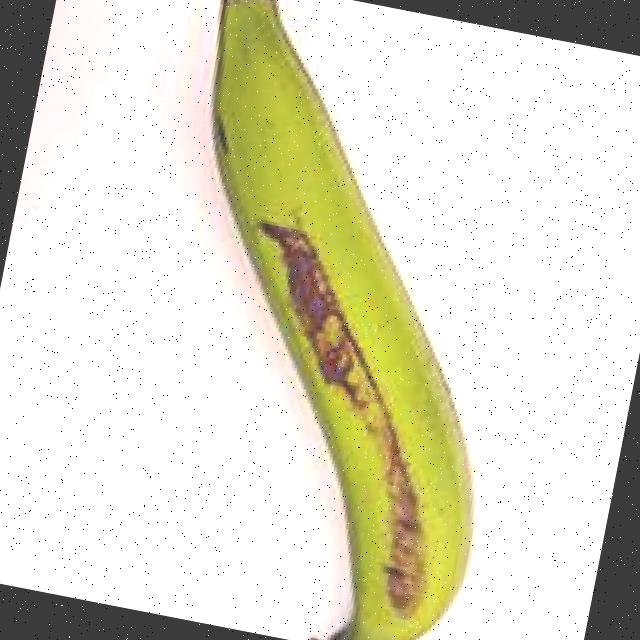Raw: (56, 0, 610, 640)
